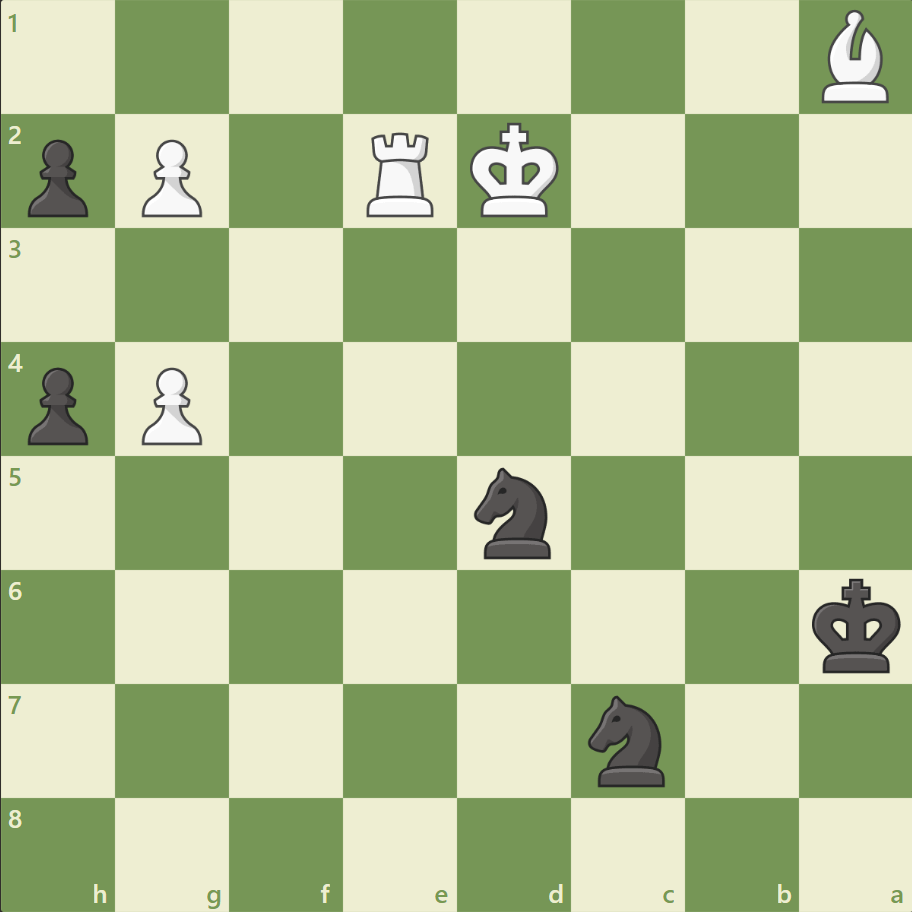B: (812, 6, 896, 109)
K: (465, 117, 565, 225)
P: (133, 359, 208, 450), (133, 132, 208, 223)
R: (360, 125, 442, 222)
k: (806, 571, 906, 679)
n: (579, 688, 676, 791), (465, 461, 562, 564)
p: (20, 359, 95, 450), (20, 132, 95, 223)
